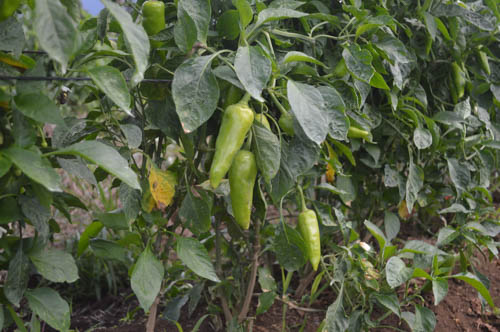ChiliPepper: (204, 104, 254, 187), (228, 150, 256, 228), (293, 211, 323, 270), (141, 3, 169, 55)
